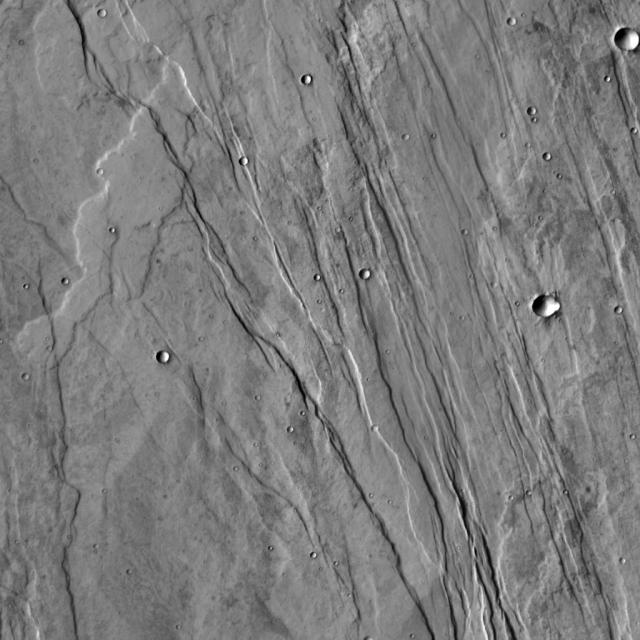crater: (537, 297, 561, 319), (620, 30, 640, 53), (162, 352, 176, 364), (554, 304, 565, 314), (306, 75, 316, 85), (366, 270, 376, 280), (512, 18, 521, 27), (244, 158, 254, 166), (103, 12, 112, 20), (66, 279, 74, 287), (532, 110, 540, 118), (548, 156, 556, 164), (458, 222, 466, 230), (617, 551, 625, 558), (488, 276, 495, 284), (376, 427, 384, 434), (101, 170, 108, 177), (612, 304, 620, 310), (284, 420, 292, 426), (630, 126, 636, 132)
